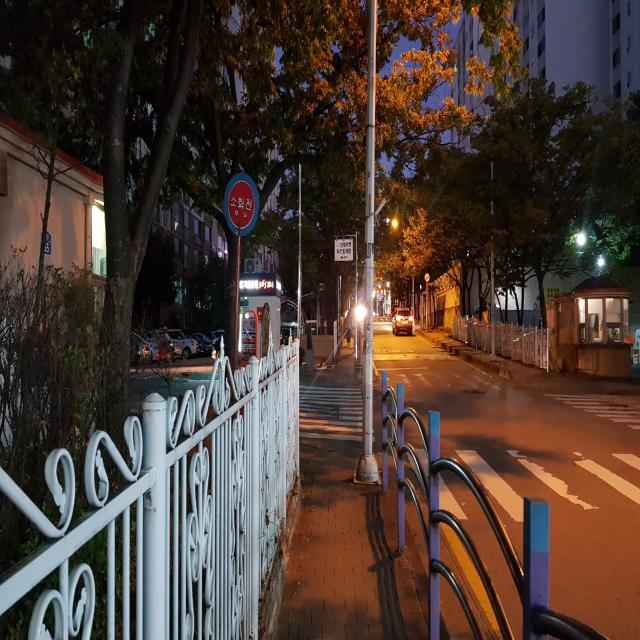횡단보도: (399, 436, 640, 538), (298, 384, 376, 444)
